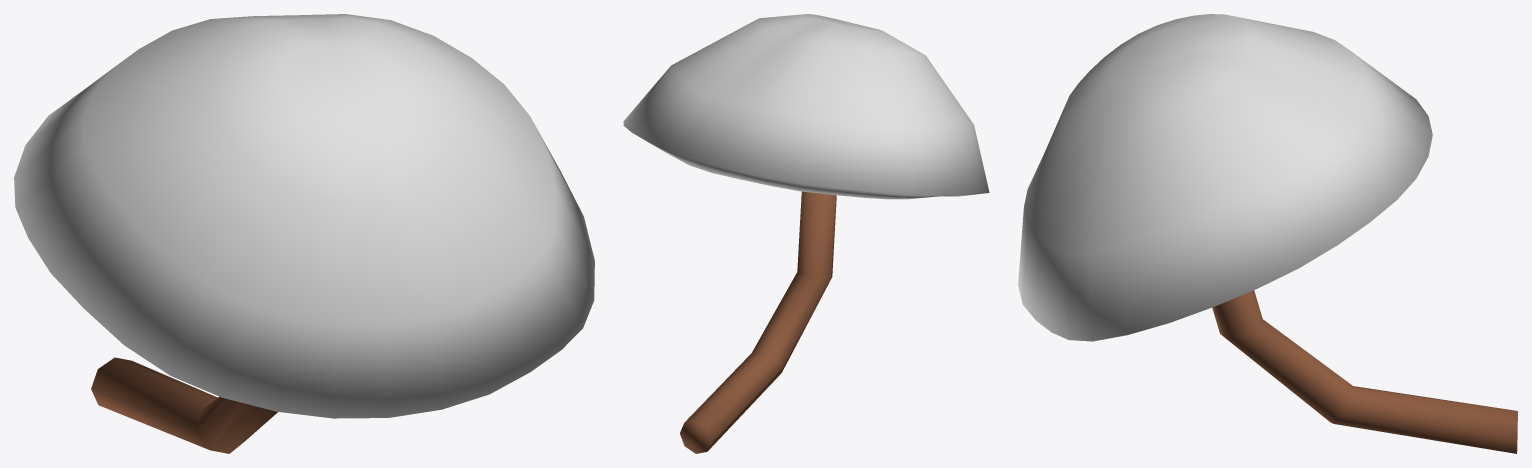
The model's file is mushRoomJumpadWall1.glb.
3 renders of one model, left to right at view 1: azimuth 30°, elevation 25°; view 2: azimuth 150°, elevation 25°; view 3: azimuth 270°, elevation 25°, orthographic. The views are drawn at different scales.
Visible parts, largest first — view 1: Head_1.001, Column_1.001; view 2: Head_1.001, Column_1.001; view 3: Head_1.001, Column_1.001.
Boxes of the visible parts, x1,y1,x2,y2 form: Head_1.001: (14,14,594,418); Column_1.001: (91,357,277,453); Head_1.001: (623,14,989,199); Column_1.001: (680,191,836,453); Head_1.001: (1018,14,1432,341); Column_1.001: (1212,290,1517,453).
Size of the model in its own units: 4.03 by 3.9 by 4.25.
